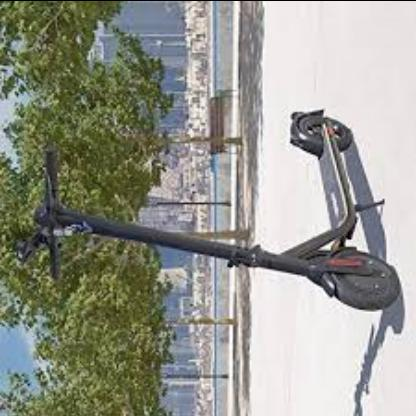bike: (7, 109, 406, 339)
